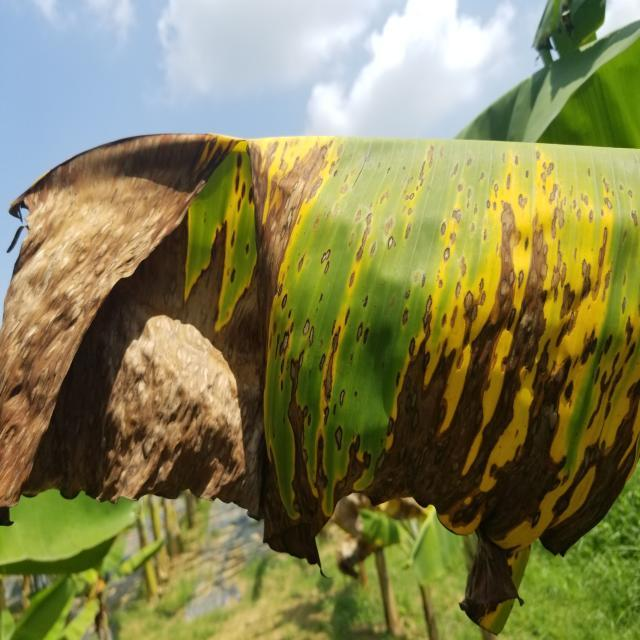Early_rust: (2, 119, 640, 568)
